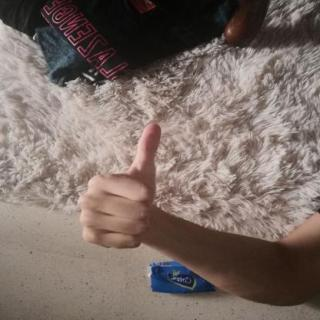ALIF: (69, 115, 177, 257)
